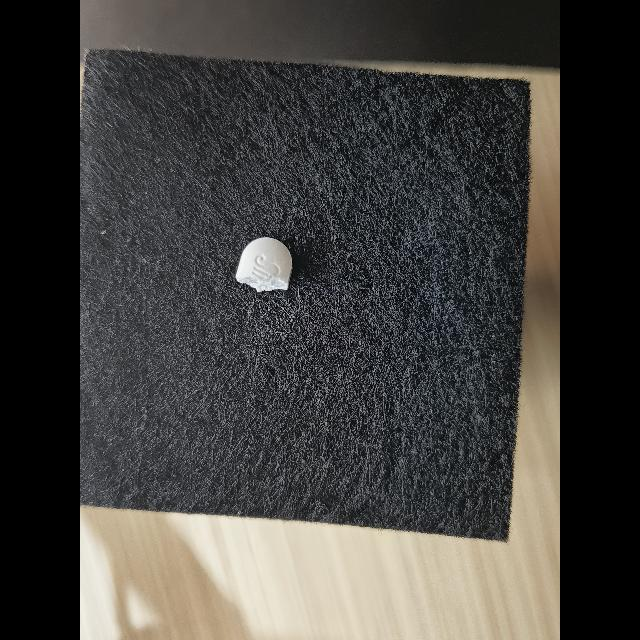Chipped Pill: (235, 237, 293, 292)
